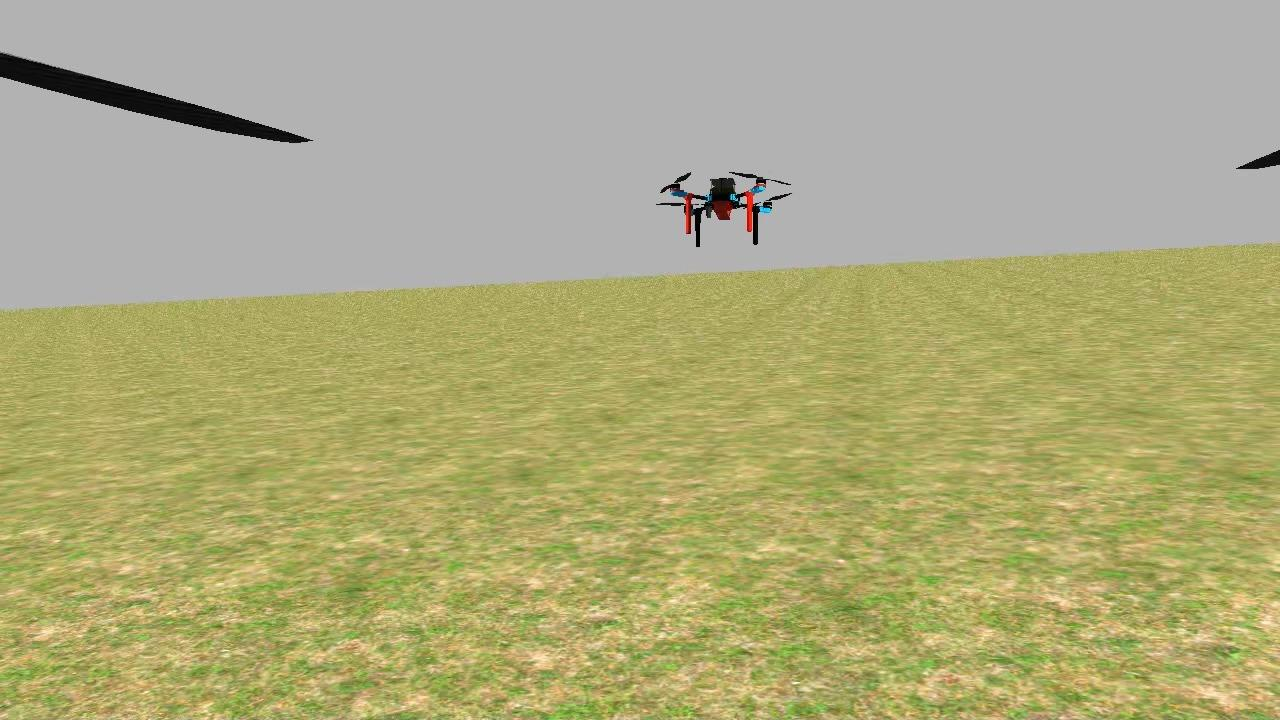UAV: (655, 159, 790, 250)
